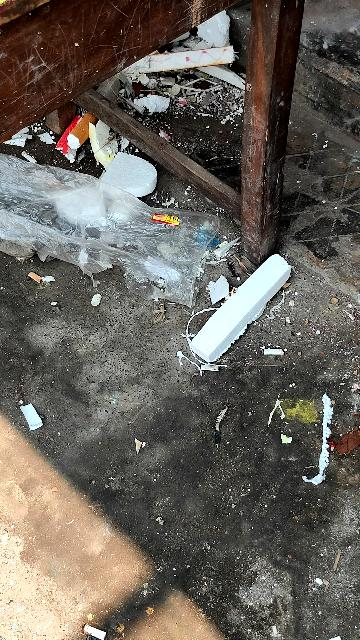cocksheet: (175, 236, 319, 379), (50, 129, 174, 249), (117, 5, 251, 109)
